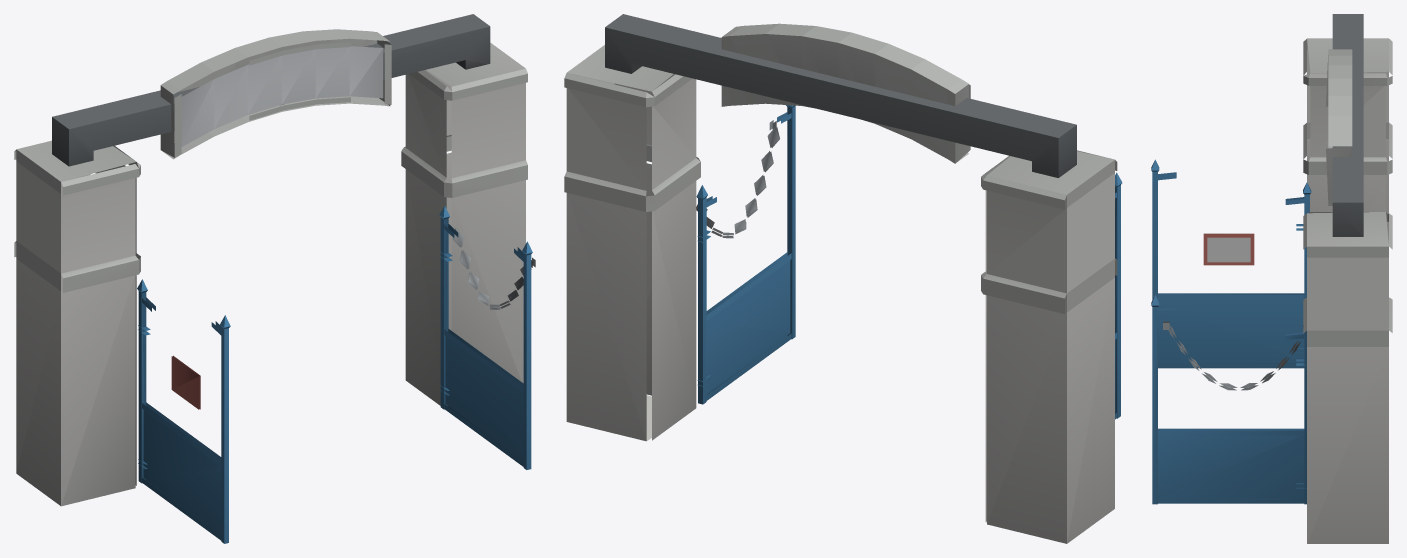
The model's file is gate.lod.glb.
3 renders of one model, left to right at view 1: azimuth 30°, elevation 25°; view 2: azimuth 150°, elevation 25°; view 3: azimuth 270°, elevation 25°, orthographic. The views are drawn at different scales.
Parts seen in each view (by area): view 1: gate; view 2: gate; view 3: gate.
Part boxes in pixels (x1,y1,x2,y2): gate: (14,14,535,543); gate: (564,14,1122,543); gate: (1151,14,1392,543).
Bounding box in the file's own units: 8.4 × 6.8 × 4.12.
